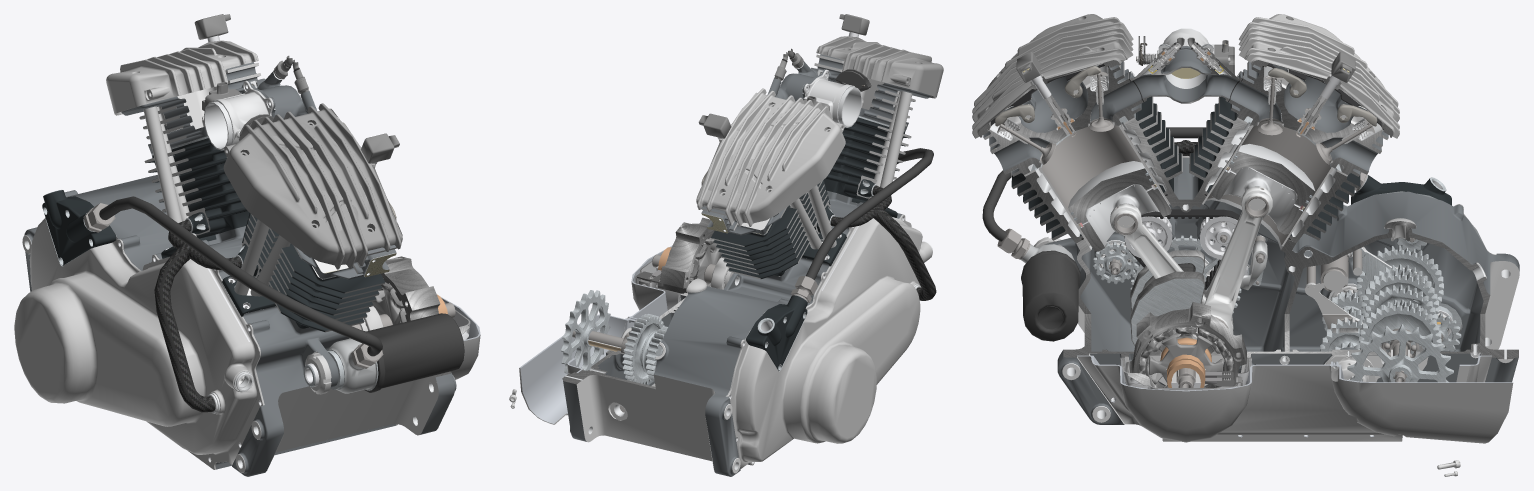
Rendered from p-step3-v1.glb.
3 views of the same model, side by side, from view 1: azimuth 30°, elevation 25°; view 2: azimuth 150°, elevation 25°; view 3: azimuth 270°, elevation 25° (orthographic). The views are drawn at different scales.
Visible parts, largest first — view 1: Object_2, Object_34, Object_67, Object_118, Object_7, Object_19, Object_3, Object_26; view 2: Object_34, Object_2, Object_67, Object_122, Object_118, Object_19, Object_7, Object_132, Object_26; view 3: Object_2, Object_67, Object_132, Object_122, Object_34, Object_19, Object_13, Object_81, Object_102, Object_118, Object_26.
Boxes of the visible parts, <box> form: Object_2: <box>22,14,480,472</box>; Object_34: <box>14,40,396,469</box>; Object_67: <box>24,62,456,476</box>; Object_118: <box>42,190,275,316</box>; Object_7: <box>154,220,241,412</box>; Object_19: <box>378,256,470,334</box>; Object_3: <box>328,338,377,393</box>; Object_26: <box>43,89,378,444</box>; Object_34: <box>686,54,932,468</box>; Object_2: <box>509,14,943,473</box>; Object_67: <box>562,54,930,476</box>; Object_122: <box>561,116,905,384</box>; Object_118: <box>746,179,897,370</box>; Object_19: <box>635,217,720,294</box>; Object_7: <box>830,185,936,300</box>; Object_132: <box>562,46,819,389</box>; Object_26: <box>729,82,900,396</box>; Object_2: <box>972,14,1519,476</box>; Object_67: <box>983,44,1519,437</box>; Object_132: <box>979,58,1518,359</box>; Object_122: <box>1028,113,1461,382</box>; Object_34: <box>989,14,1496,254</box>; Object_19: <box>1120,302,1362,388</box>; Object_13: <box>983,67,1232,387</box>; Object_81: <box>1131,257,1204,344</box>; Object_102: <box>1130,250,1206,345</box>; Object_118: <box>1351,175,1451,205</box>; Object_26: <box>1158,44,1485,338</box>.
Bounding box in the file's own units: 0.4233 × 0.4303 × 0.5824.
18 materials, 14 textured.
